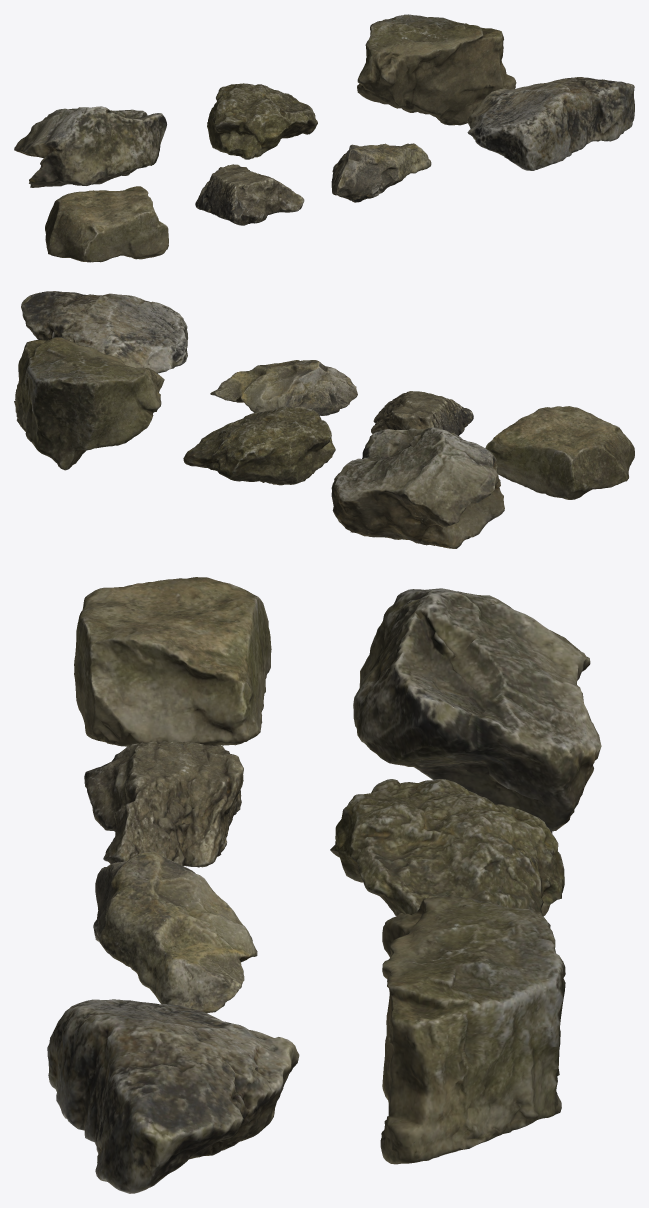
The picture shows the model from 3 angles, top to bottom: view 1: azimuth 30°, elevation 25°; view 2: azimuth 150°, elevation 25°; view 3: azimuth 270°, elevation 25°; orthographic projection. The views are drawn at different scales.
Visible parts, largest first — view 1: rock_moss_set_02_rock13, rock_moss_set_02_rock10, rock_moss_set_02_rock11, rock_moss_set_02_rock07, rock_moss_set_02_rock12, rock_moss_set_02_rock08, rock_moss_set_02_rock09; view 2: rock_moss_set_02_rock11, rock_moss_set_02_rock13, rock_moss_set_02_rock07, rock_moss_set_02_rock10, rock_moss_set_02_rock12, rock_moss_set_02_rock09, rock_moss_set_02_rock08; view 3: rock_moss_set_02_rock13, rock_moss_set_02_rock11, rock_moss_set_02_rock10, rock_moss_set_02_rock07, rock_moss_set_02_rock12, rock_moss_set_02_rock09, rock_moss_set_02_rock08.
Part boxes in pixels (bbox=[...]): rock_moss_set_02_rock13: bbox=[357, 14, 516, 125]; rock_moss_set_02_rock10: bbox=[467, 77, 634, 170]; rock_moss_set_02_rock11: bbox=[14, 106, 166, 187]; rock_moss_set_02_rock07: bbox=[45, 186, 168, 262]; rock_moss_set_02_rock12: bbox=[207, 83, 317, 159]; rock_moss_set_02_rock08: bbox=[195, 164, 304, 225]; rock_moss_set_02_rock09: bbox=[331, 143, 431, 202]; rock_moss_set_02_rock11: bbox=[331, 427, 504, 548]; rock_moss_set_02_rock13: bbox=[14, 337, 164, 470]; rock_moss_set_02_rock07: bbox=[485, 406, 634, 499]; rock_moss_set_02_rock10: bbox=[21, 291, 187, 373]; rock_moss_set_02_rock12: bbox=[183, 406, 335, 485]; rock_moss_set_02_rock09: bbox=[210, 360, 357, 415]; rock_moss_set_02_rock08: bbox=[371, 391, 473, 435]; rock_moss_set_02_rock13: bbox=[380, 895, 565, 1164]; rock_moss_set_02_rock11: bbox=[353, 588, 601, 833]; rock_moss_set_02_rock10: bbox=[47, 999, 299, 1193]; rock_moss_set_02_rock07: bbox=[74, 577, 271, 746]; rock_moss_set_02_rock12: bbox=[330, 779, 564, 927]; rock_moss_set_02_rock09: bbox=[93, 851, 257, 1013]; rock_moss_set_02_rock08: bbox=[84, 741, 243, 867].
Bounding box in the file's own units: 8.28 × 1.37 × 3.41.
Materials: 1 (1 with a texture image).
